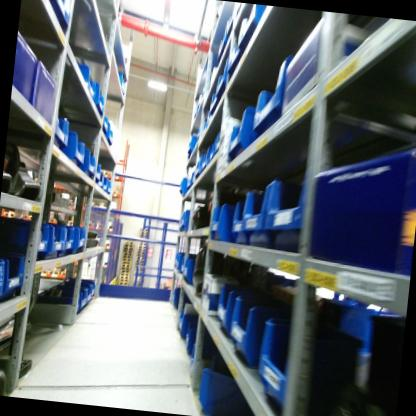pallet: (60, 268, 77, 280), (66, 214, 81, 225), (102, 222, 115, 233), (91, 221, 103, 232), (47, 266, 60, 276), (96, 167, 110, 176), (99, 241, 112, 248), (101, 257, 109, 267), (122, 251, 133, 257), (122, 248, 133, 253), (135, 261, 146, 266), (138, 232, 149, 237), (137, 240, 146, 246), (119, 272, 129, 277), (137, 247, 147, 252), (136, 257, 146, 262), (123, 240, 135, 244), (120, 266, 131, 270), (122, 246, 133, 250), (123, 243, 134, 247), (119, 279, 129, 283), (119, 276, 129, 280), (121, 263, 131, 267), (121, 260, 131, 264), (121, 255, 131, 259), (136, 251, 146, 255), (136, 254, 146, 258), (139, 229, 149, 233), (119, 282, 128, 286), (120, 269, 129, 273), (138, 244, 147, 248), (121, 258, 131, 261), (139, 227, 149, 230)
